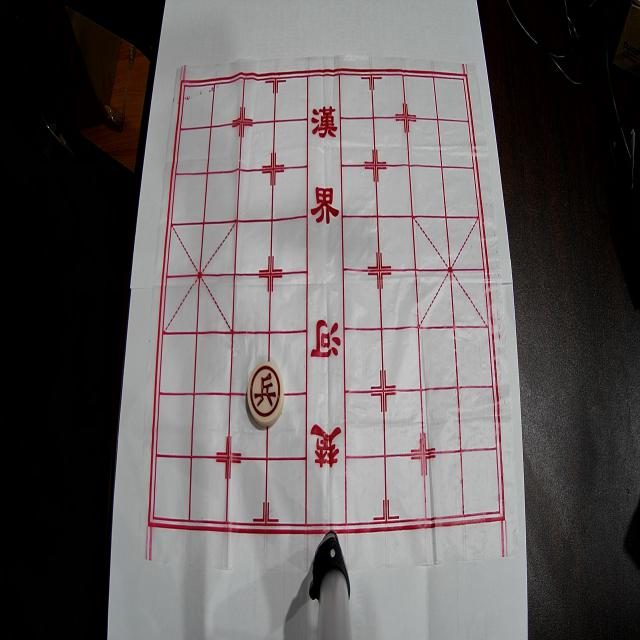red-soldier: (247, 361, 284, 427)
